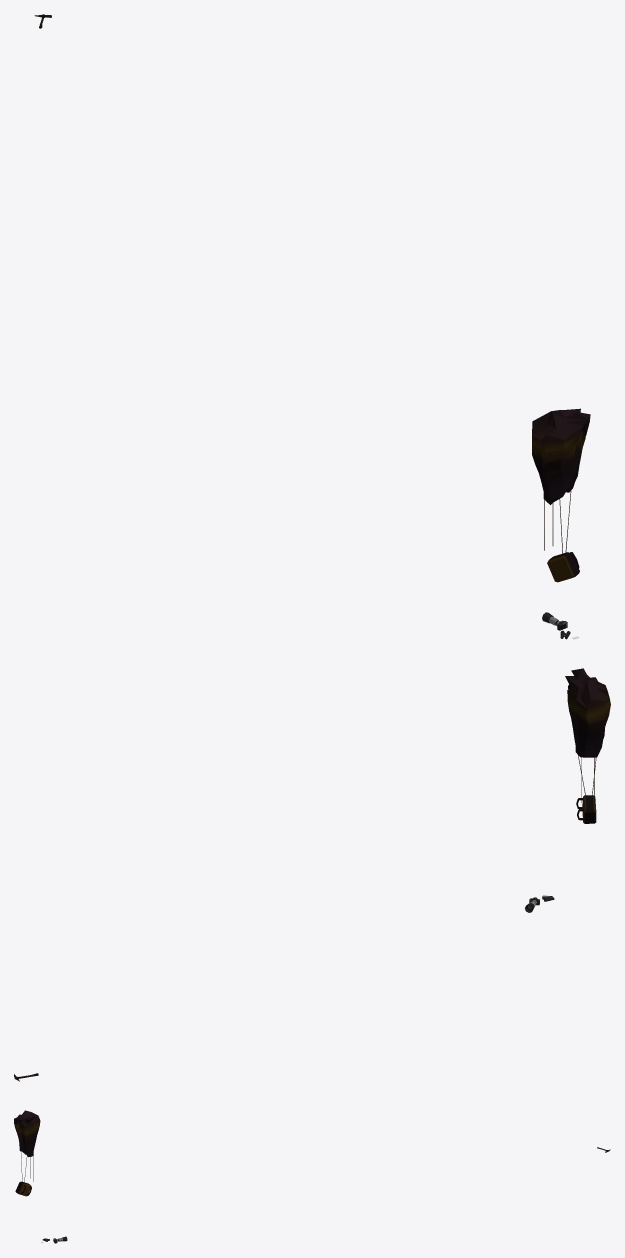
Rendered from level1Misc_grp.fbx.
3 renders of one model, top to bottom at view 1: azimuth 30°, elevation 25°; view 2: azimuth 150°, elevation 25°; view 3: azimuth 270°, elevation 25°, orthographic. The views are drawn at different scales.
Visible parts, largest first — view 1: parachute_01; view 2: parachute_01; view 3: parachute_01.
Boxes of the visible parts, x1=… form: parachute_01: x1=532, y1=408, x2=590, y2=582; parachute_01: x1=565, y1=668, x2=610, y2=823; parachute_01: x1=14, y1=1110, x2=40, y2=1196.
Size of the model in its own units: 152 by 374 by 1642.
6 materials, 3 textured.
